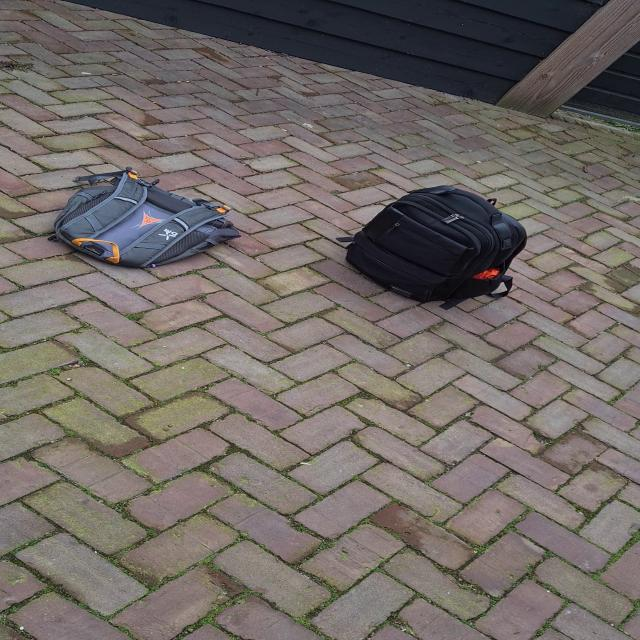backpack: (334, 180, 533, 306), (43, 167, 244, 270)
